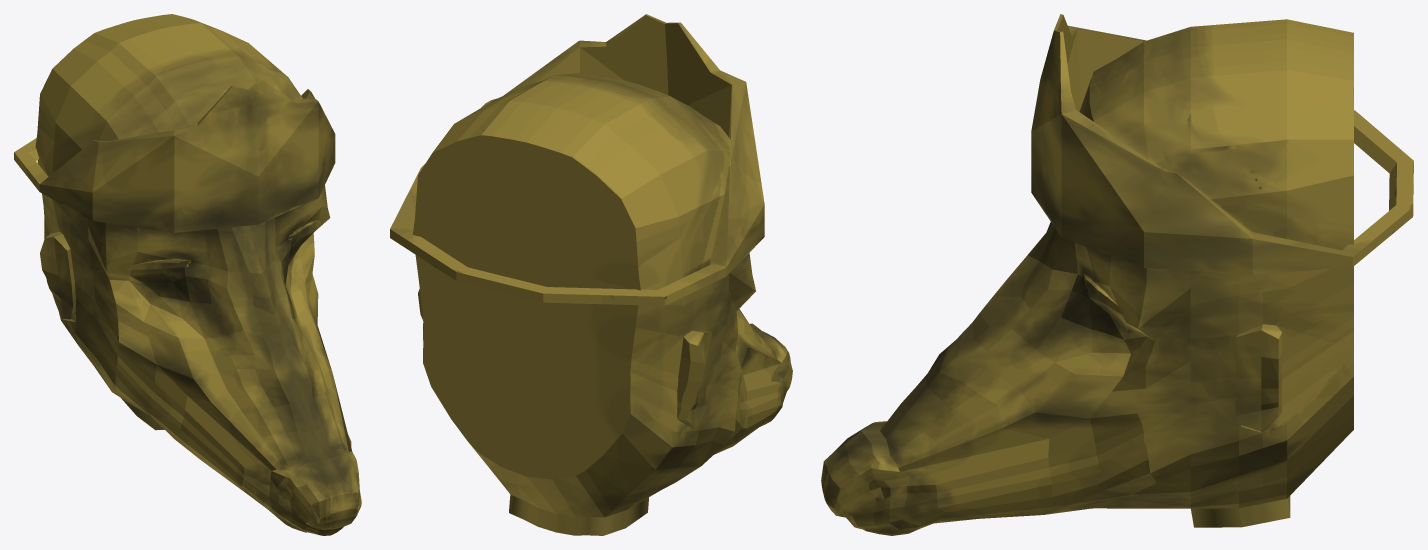
Rendered from f_head_2.fbx.
3 renders of one model, left to right at view 1: azimuth 30°, elevation 25°; view 2: azimuth 150°, elevation 25°; view 3: azimuth 270°, elevation 25°, orthographic. The views are drawn at different scales.
Visible parts, largest first — view 1: Circle.003; view 2: Circle.003; view 3: Circle.003.
Part boxes in pixels (left/top/right/bottom): Circle.003: left=14, top=14, right=361, bottom=535; Circle.003: left=390, top=14, right=792, bottom=535; Circle.003: left=821, top=14, right=1413, bottom=535.
Bounding box in the file's own units: 95.62 × 138 × 147.
1 material, 1 textured.
